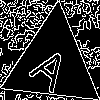A: (28, 38, 78, 94)
